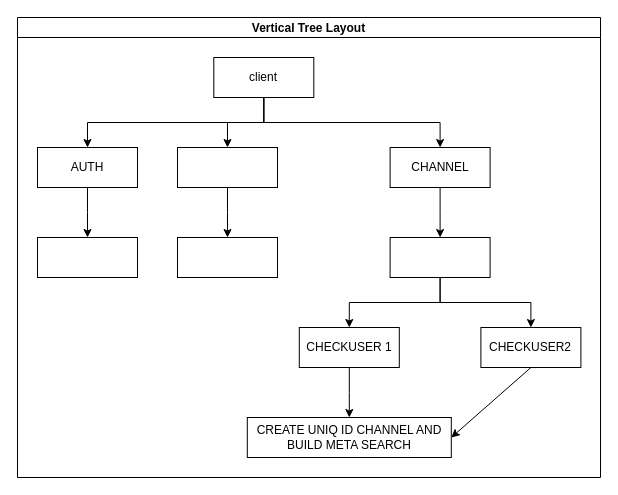
The diagram is 618 pixels wide and 495 high, and some of its shapes have lost their labels. The shapes that lost their labels are listed below. From the top down, each one's box as (x1, y1, x2, y2) in pixels, then its label:
(176, 146, 278, 188): REGISTER
(36, 236, 138, 278): CHECK USER
(176, 236, 278, 278): CREATE USER
(389, 236, 490, 278): CREATE CHANNEL
